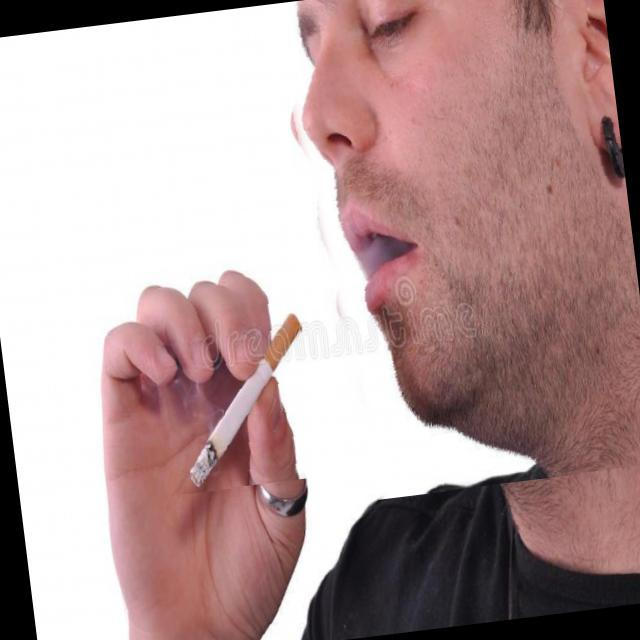cigarette: (147, 286, 320, 496)
